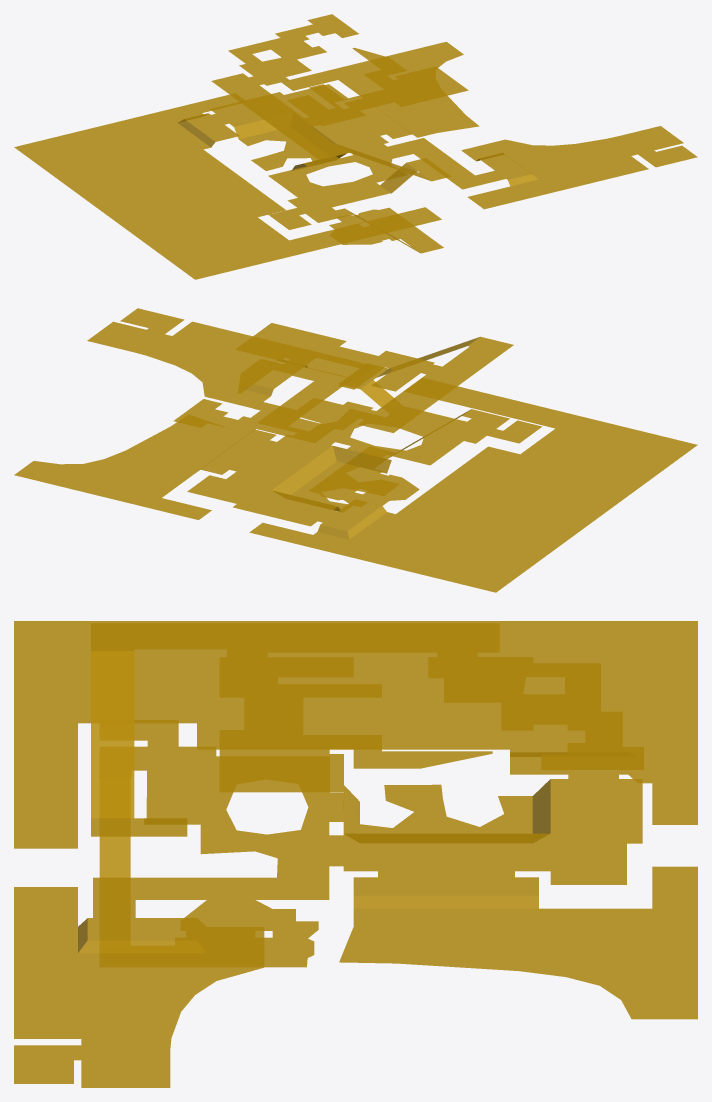
The model's file is NavMesh - copia.fbx.
3 views of the same model, one above another, from view 1: azimuth 30°, elevation 25°; view 2: azimuth 150°, elevation 25°; view 3: azimuth 270°, elevation 25° (orthographic). The views are drawn at different scales.
Parts seen in each view (by area): view 1: navmesh_exterior, navmesh_piscina, navmesh_cocina_comedor, navmesh_dormitorio, navmesh_sala, navmesh_estudio, navmesh_pasillo, navmesh_sotano, navmesh_gradas2doPiso; view 2: navmesh_exterior, navmesh_piscina, navmesh_sala, navmesh_cocina_comedor, navmesh_dormitorio, navmesh_estudio, navmesh_pasillo, navmesh_sotano, navmesh_gradas2doPiso; view 3: navmesh_piscina, navmesh_exterior, navmesh_sala, navmesh_cocina_comedor, navmesh_dormitorio, navmesh_estudio, navmesh_pasillo, navmesh_gradas2doPiso, navmesh_sotano, navmesh_gradas_sotano.
Boxes of the visible parts, left/top/right/bottom form: navmesh_exterior: left=14, top=71, right=337, bottom=279; navmesh_piscina: left=289, top=41, right=697, bottom=252; navmesh_cocina_comedor: left=268, top=138, right=505, bottom=229; navmesh_dormitorio: left=287, top=47, right=468, bottom=126; navmesh_sala: left=210, top=84, right=388, bottom=170; navmesh_estudio: left=228, top=14, right=358, bottom=85; navmesh_pasillo: left=211, top=73, right=349, bottom=159; navmesh_sotano: left=329, top=207, right=443, bottom=253; navmesh_gradas2doPiso: left=339, top=145, right=450, bottom=193; navmesh_exterior: left=148, top=415, right=697, bottom=592; navmesh_piscina: left=14, top=308, right=573, bottom=507; navmesh_sala: left=187, top=436, right=399, bottom=526; navmesh_cocina_comedor: left=280, top=366, right=542, bottom=465; navmesh_dormitorio: left=235, top=323, right=434, bottom=393; navmesh_estudio: left=173, top=398, right=373, bottom=443; navmesh_pasillo: left=358, top=336, right=513, bottom=432; navmesh_sotano: left=321, top=455, right=419, bottom=505; navmesh_gradas2doPiso: left=339, top=337, right=479, bottom=407; navmesh_piscina: left=14, top=723, right=697, bottom=1087; navmesh_exterior: left=14, top=621, right=697, bottom=908; navmesh_sala: left=343, top=774, right=642, bottom=884; navmesh_cocina_comedor: left=93, top=720, right=344, bottom=917; navmesh_dormitorio: left=219, top=657, right=492, bottom=792; navmesh_estudio: left=428, top=657, right=643, bottom=769; navmesh_pasillo: left=91, top=623, right=499, bottom=657; navmesh_gradas2doPiso: left=91, top=651, right=187, bottom=836; navmesh_sotano: left=184, top=900, right=318, bottom=967; navmesh_gradas_sotano: left=99, top=836, right=130, bottom=877.
Bounding box in the file's own units: 2293 × 520 × 1420.
